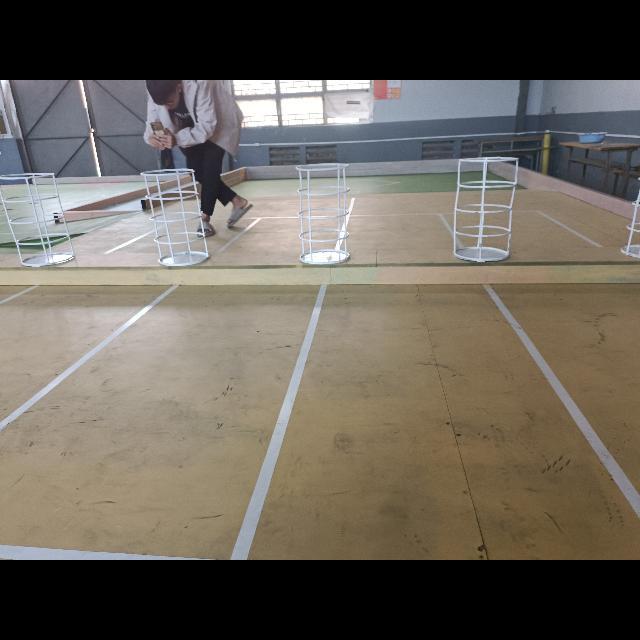S: (0, 170, 77, 268), (139, 165, 212, 268), (453, 155, 521, 263), (294, 162, 350, 266), (619, 173, 640, 260)
